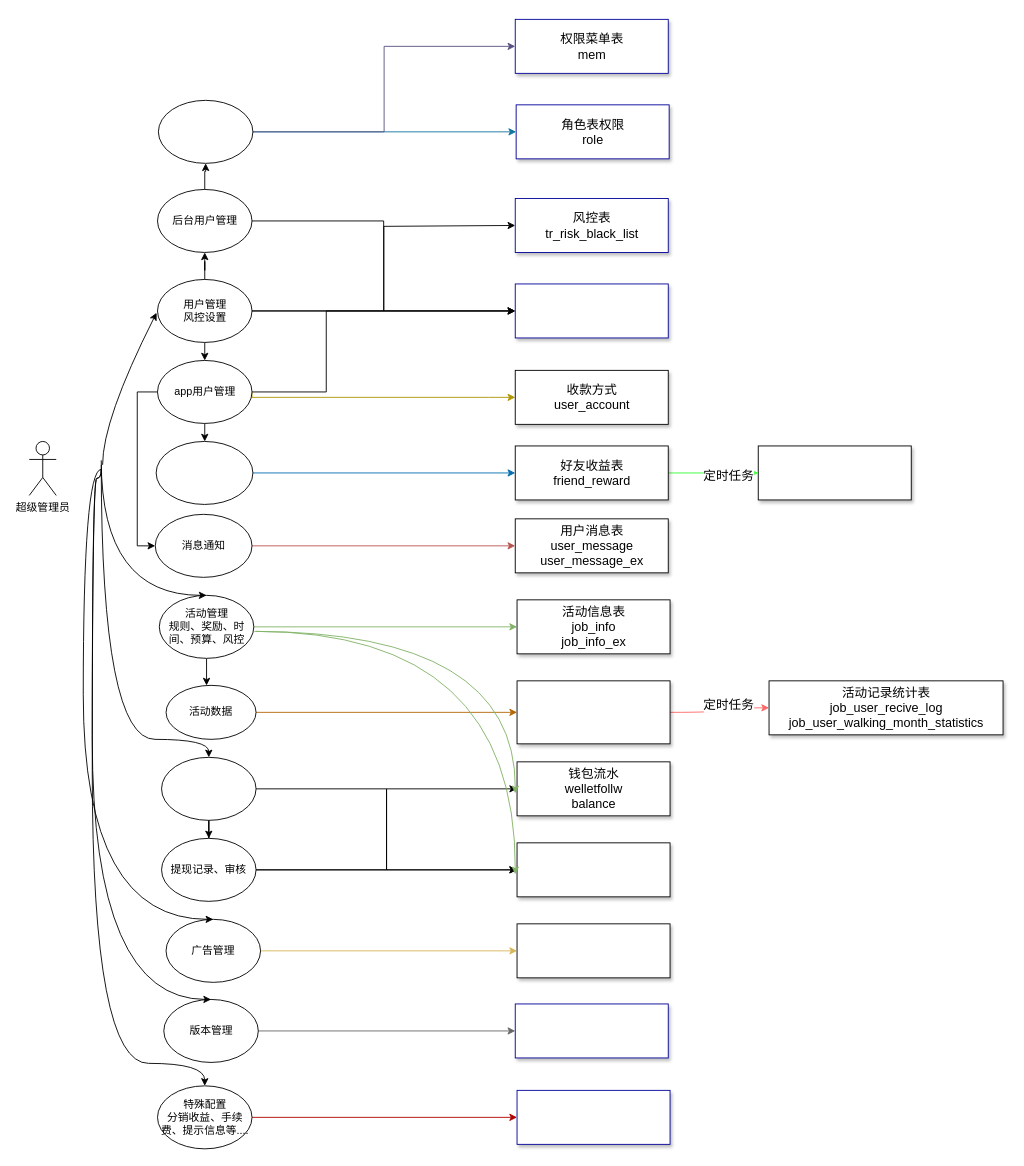
Image size: 1024x1166. Some labels were removed from this diagram. Here are the shapes that lost their labels. From the top down, the centre of each, then its label:
the point at 205,131: 角色、权限、菜单管理
the point at 592,311: 用户信息表 user_info user_info_ex
the point at 204,472: 用户好友收益
the point at 835,473: 好友收益统计表 friend_reward_statistics
the point at 594,713: 活动记录表 job_user_recive_log job_user_walking_log task_daliy_log
the point at 208,788: 订单管理
the point at 594,870: 订单表’ biz_order biz_order_ex
the point at 594,951: APP广告设置 ad_info
the point at 592,1031: APP信息表 app_version
the point at 594,1118: 配置信息表 config
